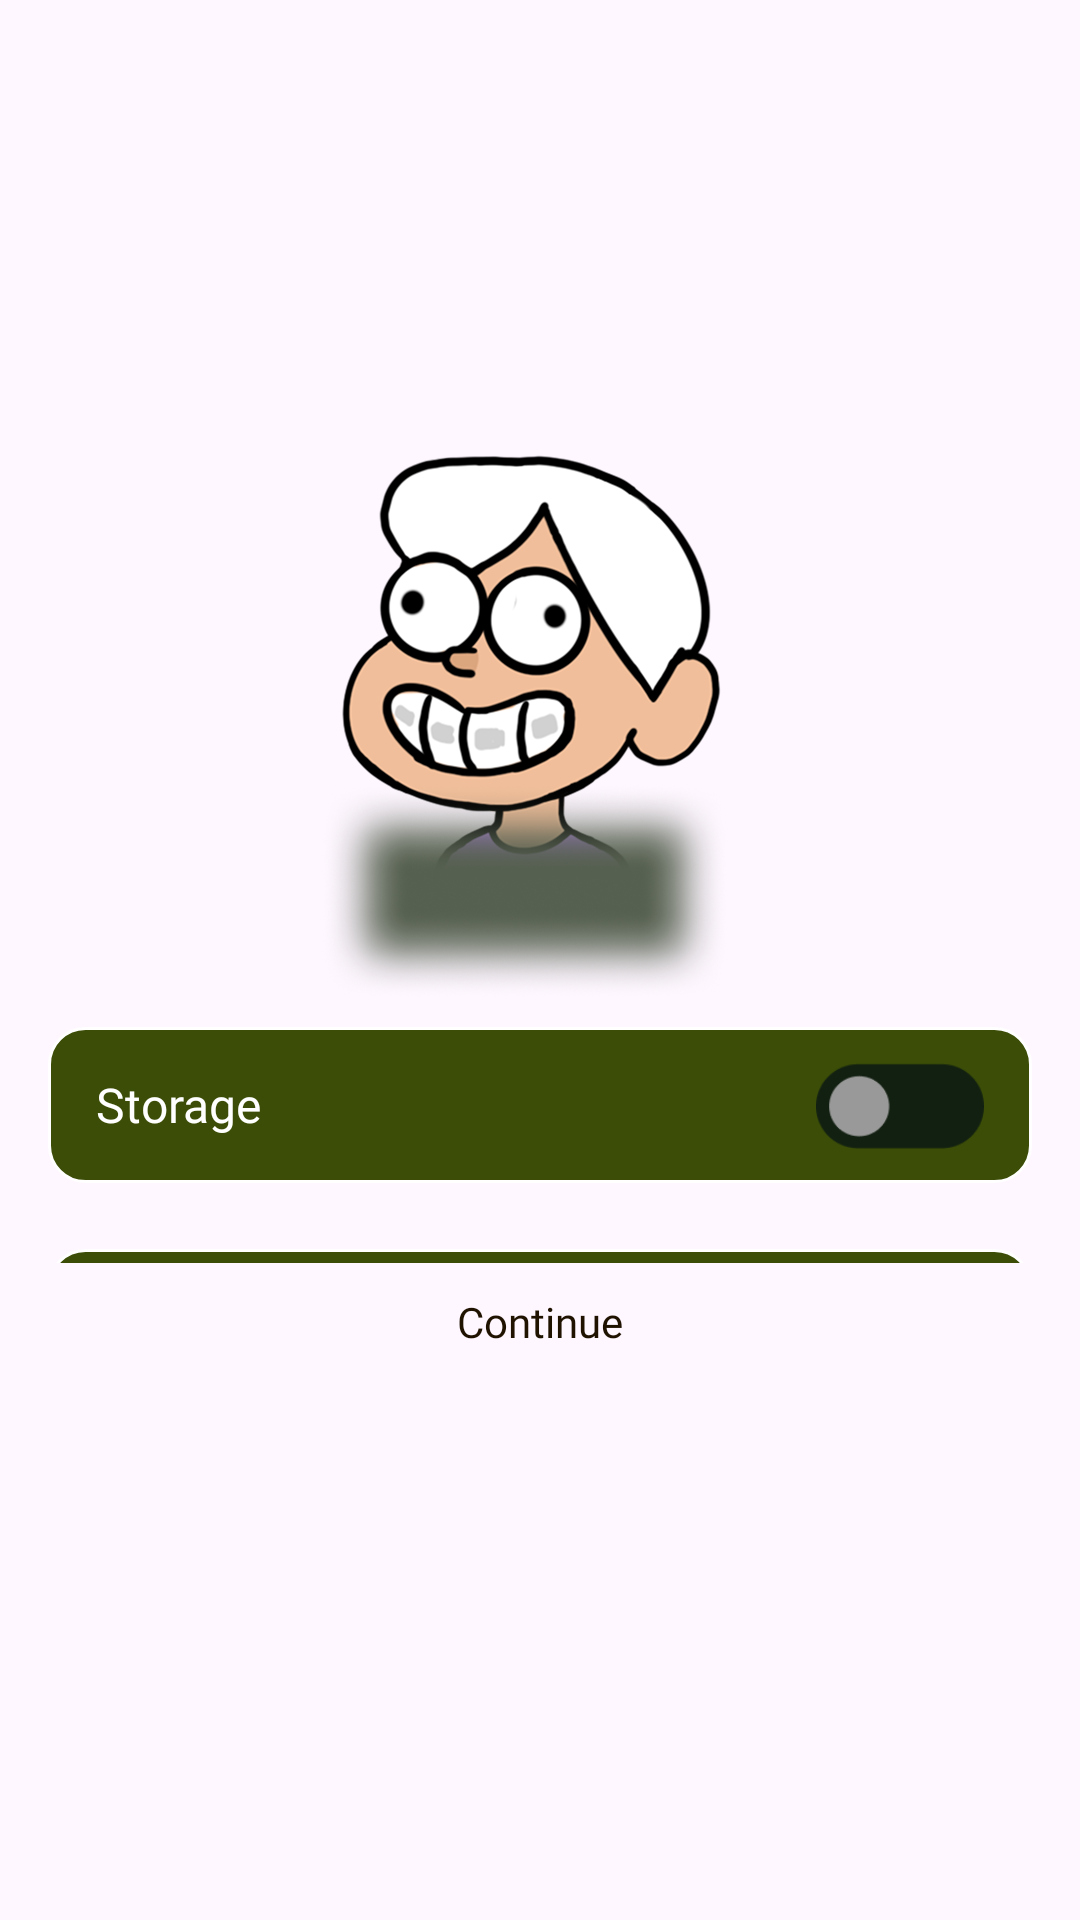

Locate icon controls on the screen. Image size 1080px x 1920px, boxes as (x1, y1, x2, y2).
off: (816, 1064, 984, 1148)
